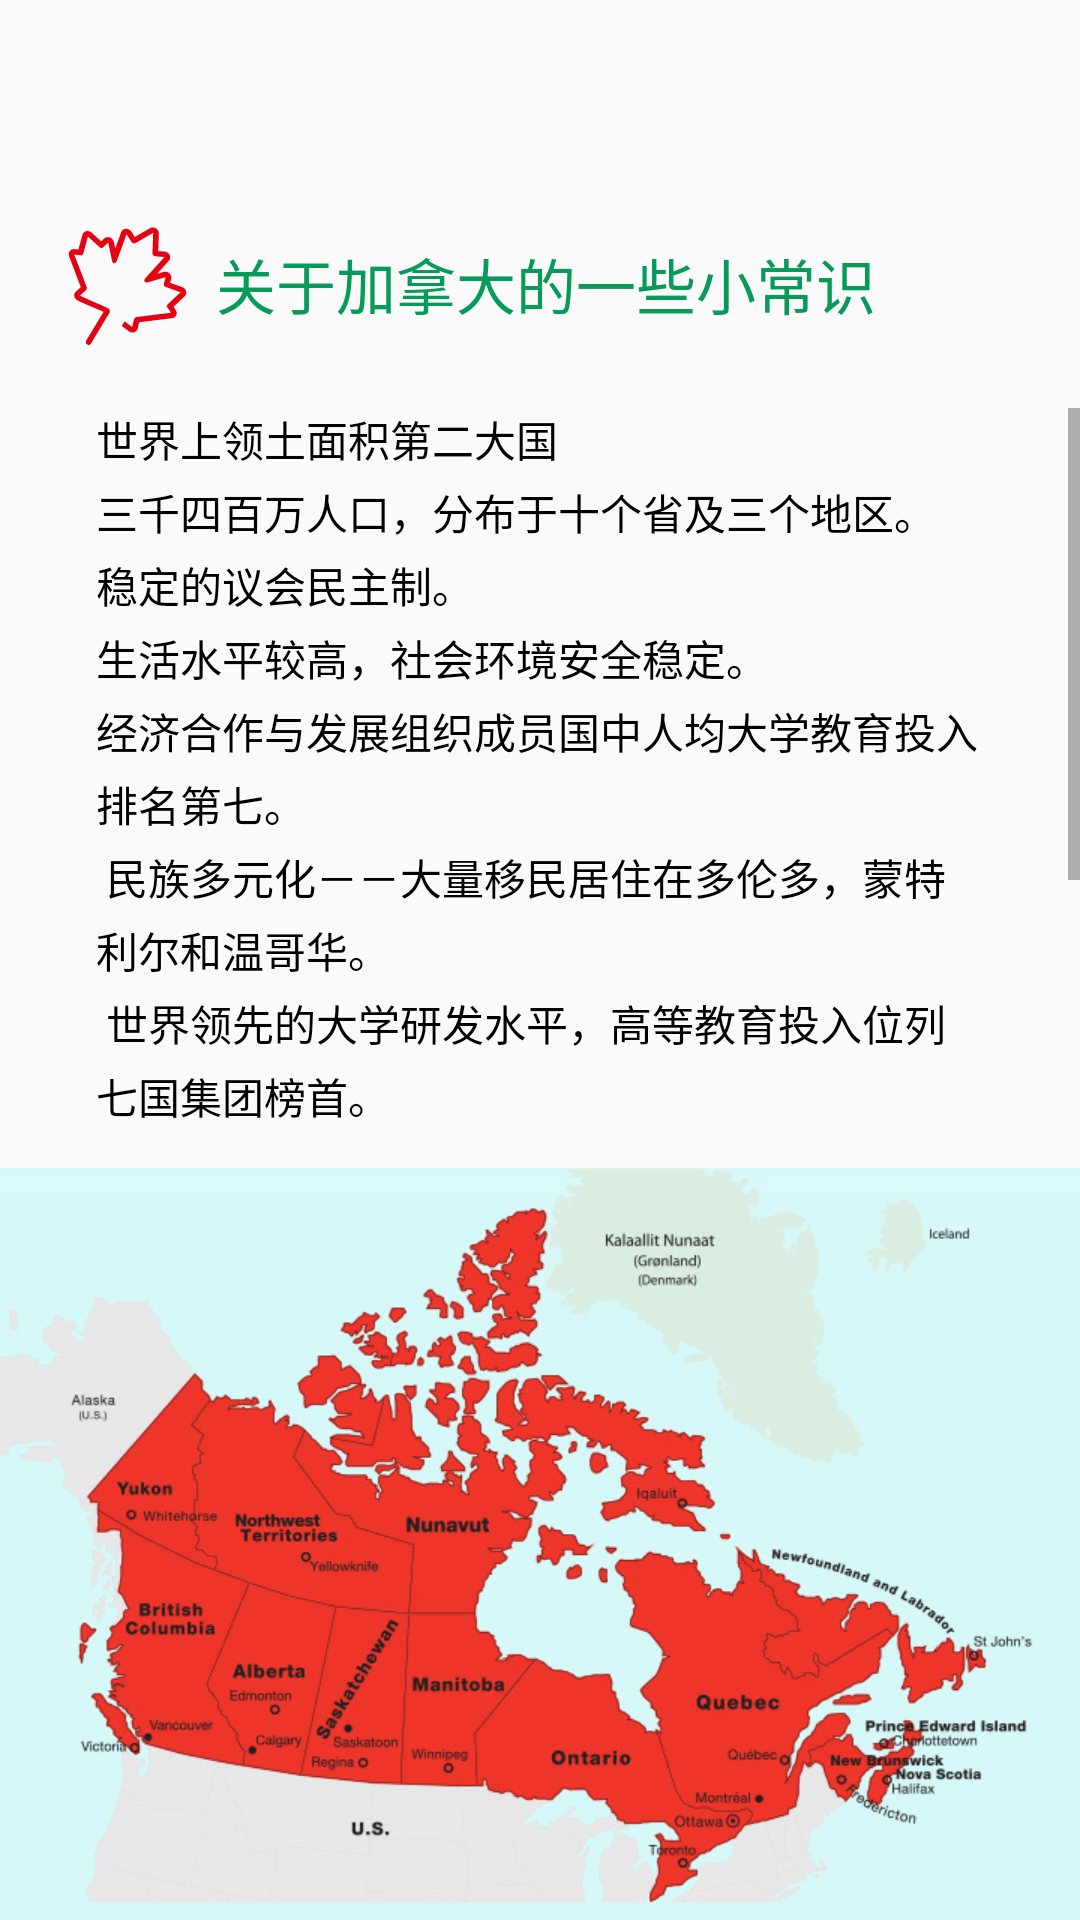

Icon click points for this 1080×1920 phone screenshot, format point (x, y):
leaf: point (127, 286)
